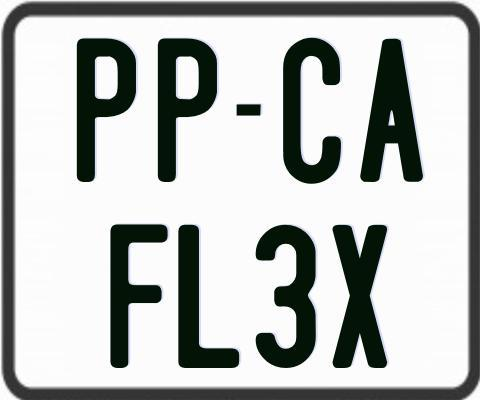3: (255, 225, 320, 374)
A: (358, 38, 422, 182)
C: (281, 36, 341, 182)
F: (107, 224, 171, 370)
L: (177, 223, 244, 372)
P: (75, 38, 139, 184), (157, 38, 221, 182)
X: (332, 222, 387, 371)
